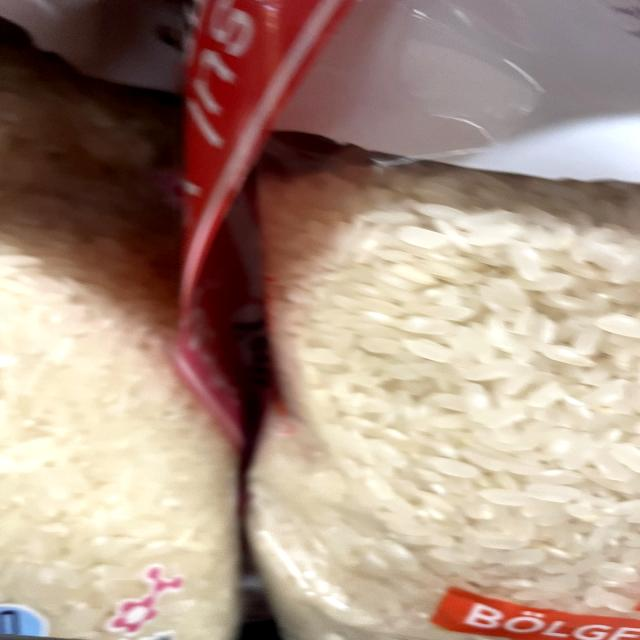rice: (320, 228, 612, 532)
